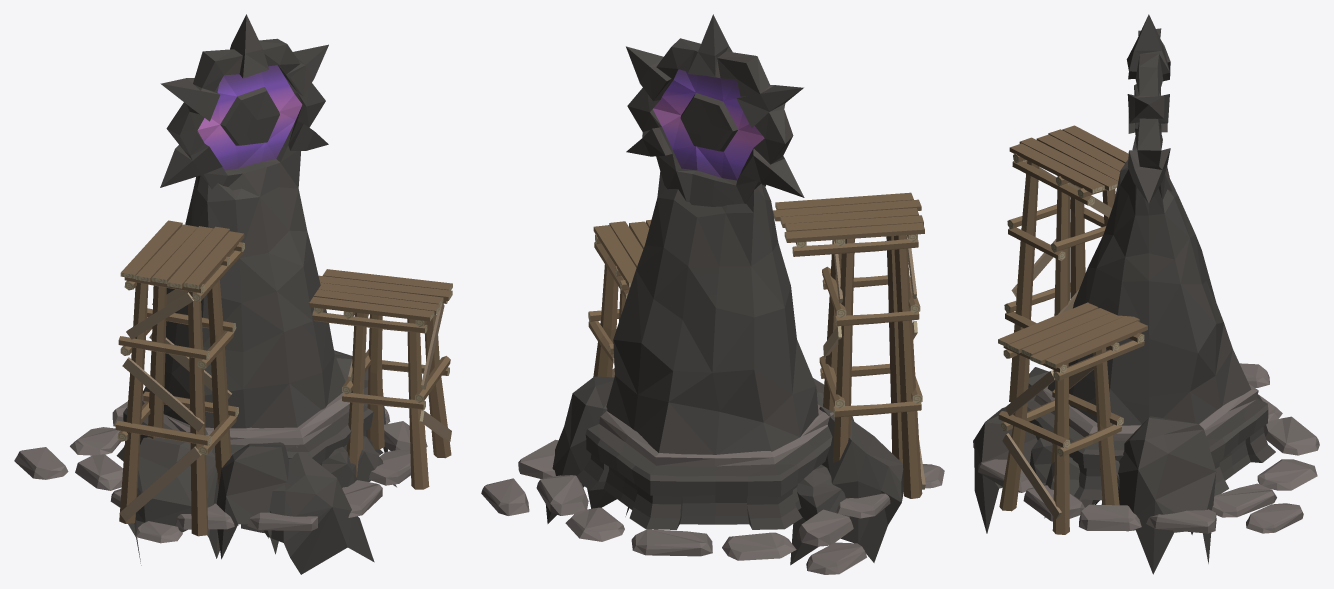
Rendered from vexorStatue.fbx.
3 views of the same model, side by side, from view 1: azimuth 30°, elevation 25°; view 2: azimuth 150°, elevation 25°; view 3: azimuth 270°, elevation 25° (orthographic). The views are drawn at different scales.
Parts seen in each view (by area): view 1: vexorStatue; view 2: vexorStatue; view 3: vexorStatue.
Boxes of the visible parts, x1,y1,x2,y2 form: vexorStatue: (14, 14, 452, 574); vexorStatue: (481, 14, 944, 574); vexorStatue: (973, 14, 1319, 574).
Size of the model in its own units: 2.82 by 3.99 by 2.5.
1 material, 1 textured.
